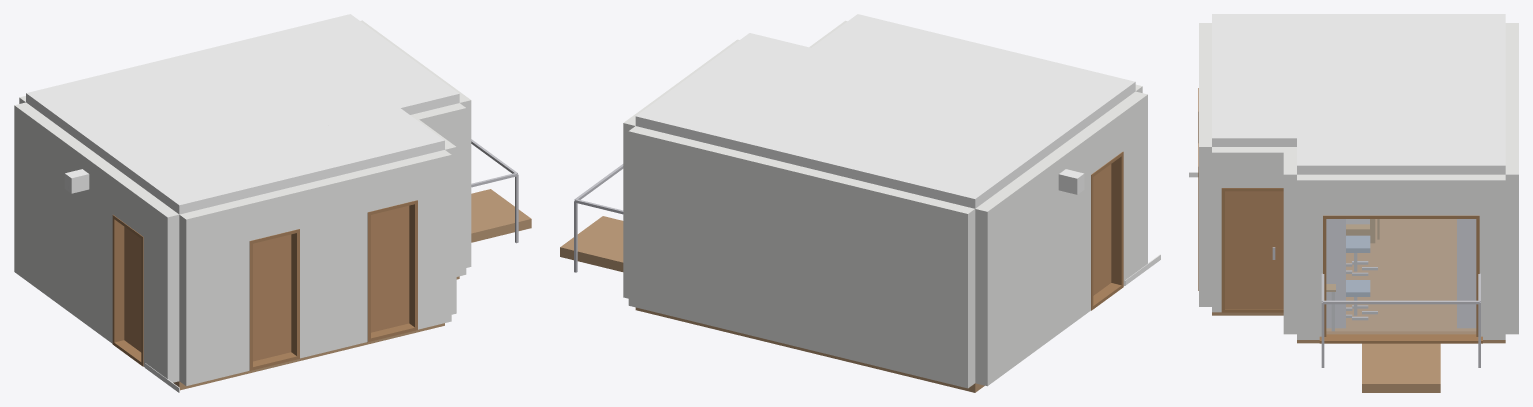
File: apartment_reconstruction.glb
The picture shows the model from 3 angles, left to right: view 1: azimuth 30°, elevation 25°; view 2: azimuth 150°, elevation 25°; view 3: azimuth 270°, elevation 25°; orthographic projection. The views are drawn at different scales.
Parts seen in each view (by area): view 1: Ceiling_Bedroom, Wall_CorridorSide, Wall_Front, Ceiling_Corridor, Door_Side1, Door_Side2, Wall_Left, Frame_BedDoor, Frame_SideDoor1, Frame_SideDoor2, Floor_Balcony, Door_Bed (+4 smaller); view 2: Wall_Right, Ceiling_Bedroom, Wall_Front, Ceiling_Corridor, Frame_BedDoor, Floor_Balcony, Door_Bed, Wall_Window, Floor_Bedroom, AC_Unit; view 3: Ceiling_Bedroom, Window_Glass, Wall_Window, Ceiling_Corridor, Floor_Bedroom, Door_Exit, Floor_Balcony, Wall_Right, Wall_CorridorEnd, Wall_CorridorSide, Wall_Left, Frame_Window (+7 smaller).
Boxes of the visible parts, x1=… form: Ceiling_Bedroom: x1=26, y1=14, x2=459, y2=181; Wall_CorridorSide: x1=179, y1=150, x2=451, y2=386; Wall_Front: x1=14, y1=102, x2=179, y2=382; Ceiling_Corridor: x1=135, y1=108, x2=444, y2=214; Door_Side1: x1=253, y1=234, x2=291, y2=361; Door_Side2: x1=371, y1=205, x2=409, y2=332; Wall_Left: x1=410, y1=103, x2=466, y2=276; Frame_BedDoor: x1=112, y1=215, x2=143, y2=366; Frame_SideDoor1: x1=249, y1=229, x2=299, y2=370; Frame_SideDoor2: x1=367, y1=200, x2=417, y2=341; Floor_Balcony: x1=471, y1=189, x2=531, y2=242; Door_Bed: x1=124, y1=227, x2=141, y2=352; Wall_Right: x1=628, y1=126, x2=975, y2=388; Ceiling_Bedroom: x1=635, y1=33, x2=1089, y2=208; Wall_Front: x1=975, y1=91, x2=1147, y2=386; Ceiling_Corridor: x1=812, y1=14, x2=1135, y2=124; Frame_BedDoor: x1=1091, y1=151, x2=1123, y2=310; Floor_Balcony: x1=560, y1=216, x2=623, y2=271; Door_Bed: x1=1093, y1=164, x2=1111, y2=295; Wall_Window: x1=623, y1=39, x2=739, y2=298; Floor_Bedroom: x1=635, y1=307, x2=984, y2=392; AC_Unit: x1=1058, y1=169, x2=1084, y2=194; Ceiling_Bedroom: x1=1297, y1=14, x2=1505, y2=174; Window_Glass: x1=1326, y1=219, x2=1475, y2=333; Wall_Window: x1=1297, y1=174, x2=1505, y2=339; Ceiling_Corridor: x1=1212, y1=14, x2=1296, y2=146; Floor_Bedroom: x1=1297, y1=219, x2=1505, y2=343; Door_Exit: x1=1225, y1=191, x2=1283, y2=309; Floor_Balcony: x1=1362, y1=318, x2=1440, y2=392; Wall_Right: x1=1505, y1=23, x2=1518, y2=334; Wall_CorridorEnd: x1=1212, y1=147, x2=1283, y2=312; Wall_CorridorSide: x1=1199, y1=23, x2=1211, y2=306; Wall_Left: x1=1283, y1=147, x2=1296, y2=334; Frame_Window: x1=1323, y1=215, x2=1479, y2=336.
Size of the model in its own units: 7.8 by 3 by 5.05.
